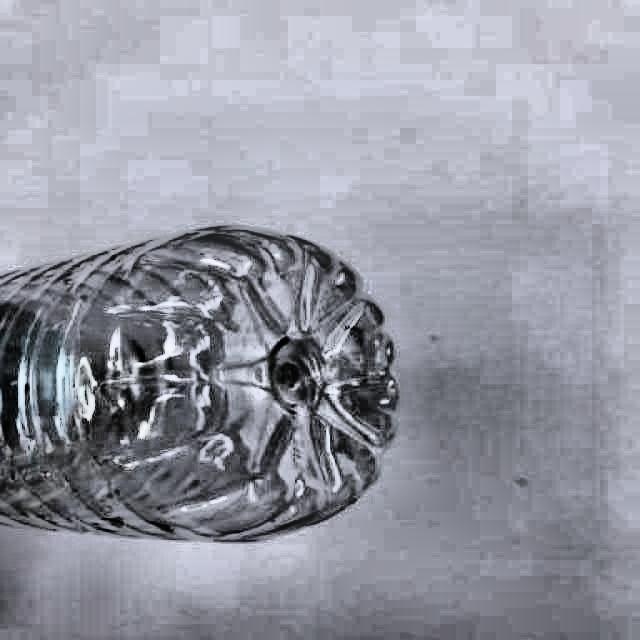plastic: (0, 226, 398, 541)
